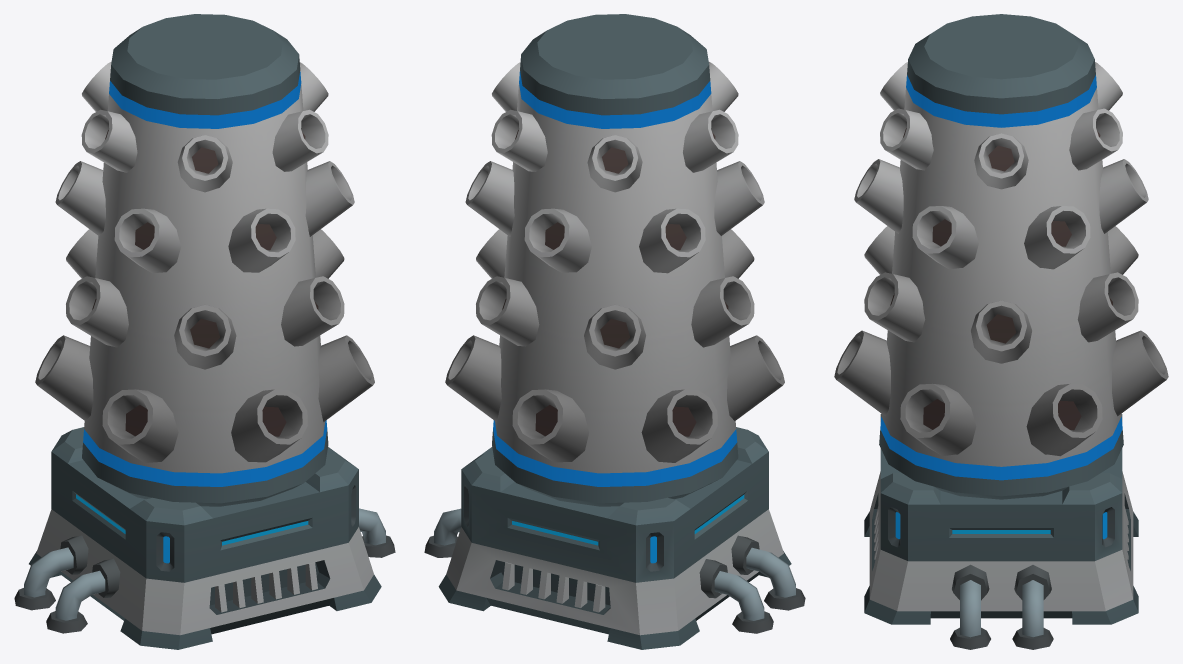
The model's file is Mini_farm_003.glb.
3 renders of one model, left to right at view 1: azimuth 30°, elevation 25°; view 2: azimuth 150°, elevation 25°; view 3: azimuth 270°, elevation 25°, orthographic.
Parts seen in each view (by area): view 1: Mini_farm_003; view 2: Mini_farm_003; view 3: Mini_farm_003.
Boxes of the visible parts, box(x1,y1,x2,y2) form: Mini_farm_003: box(14, 14, 395, 649); Mini_farm_003: box(424, 14, 805, 649); Mini_farm_003: box(834, 14, 1168, 649).
Size of the model in its own units: 1.58 by 2.3 by 1.34.
2 materials, 2 textured.
